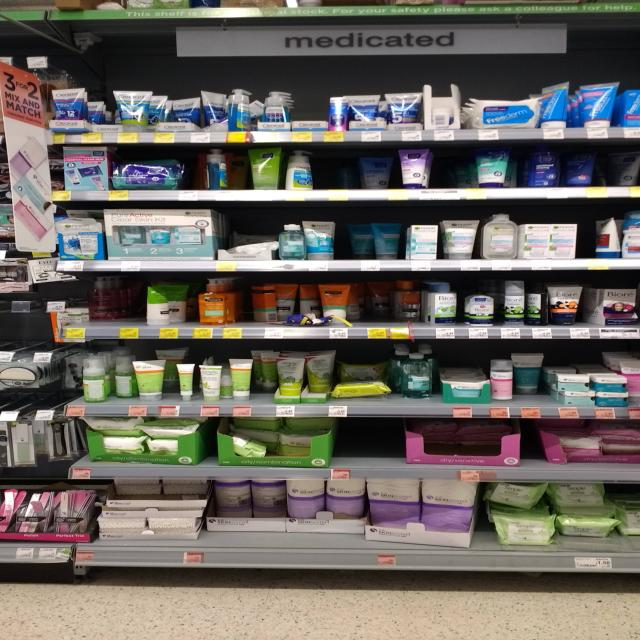void: (334, 419, 406, 463), (326, 148, 354, 186)
